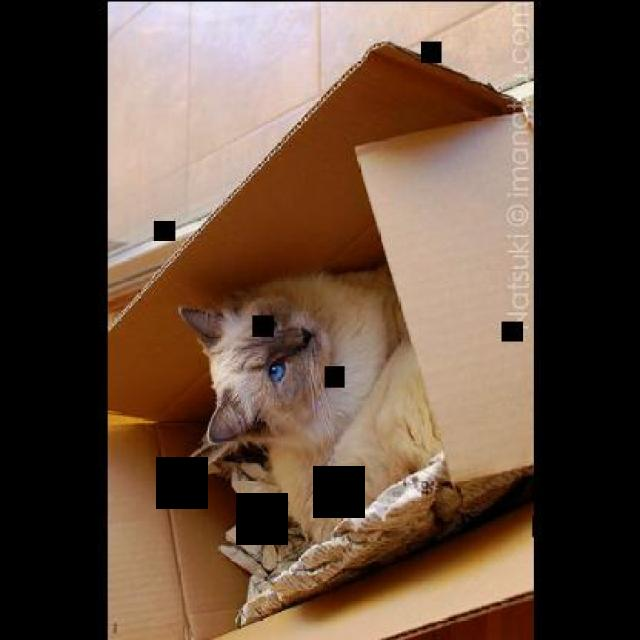unauthorized: (176, 263, 447, 545)
